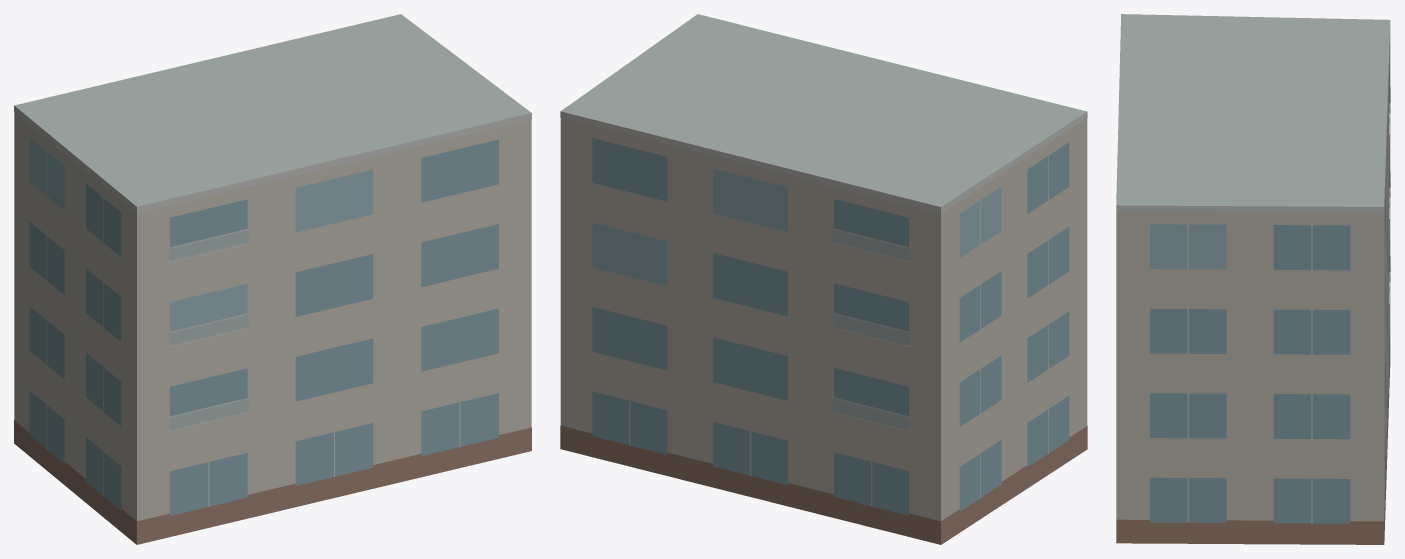
The model's file is survey-upis-32763165.glb.
3 renders of one model, left to right at view 1: azimuth 30°, elevation 25°; view 2: azimuth 150°, elevation 25°; view 3: azimuth 270°, elevation 25°, orthographic.
Visible parts, largest first — view 1: survey-upis-32763165.tmp; view 2: survey-upis-32763165.tmp; view 3: survey-upis-32763165.tmp.
Boxes of the visible parts, left/top/right/bottom form: survey-upis-32763165.tmp: left=14, top=14, right=531, bottom=544; survey-upis-32763165.tmp: left=560, top=14, right=1087, bottom=544; survey-upis-32763165.tmp: left=1116, top=14, right=1390, bottom=544.
Size of the model in its own units: 15.57 by 12.7 by 9.37.
